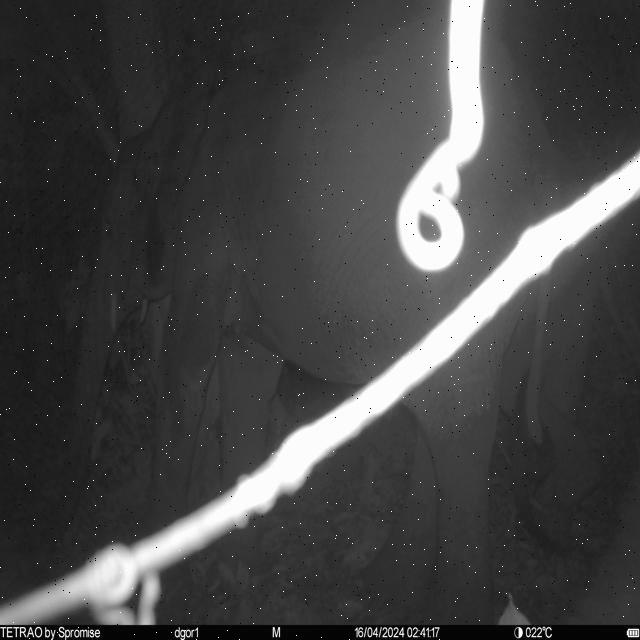ear: (140, 65, 219, 242)
elephant: (44, 2, 558, 628), (514, 134, 640, 558)
tusk: (106, 292, 122, 340), (138, 297, 153, 326)
